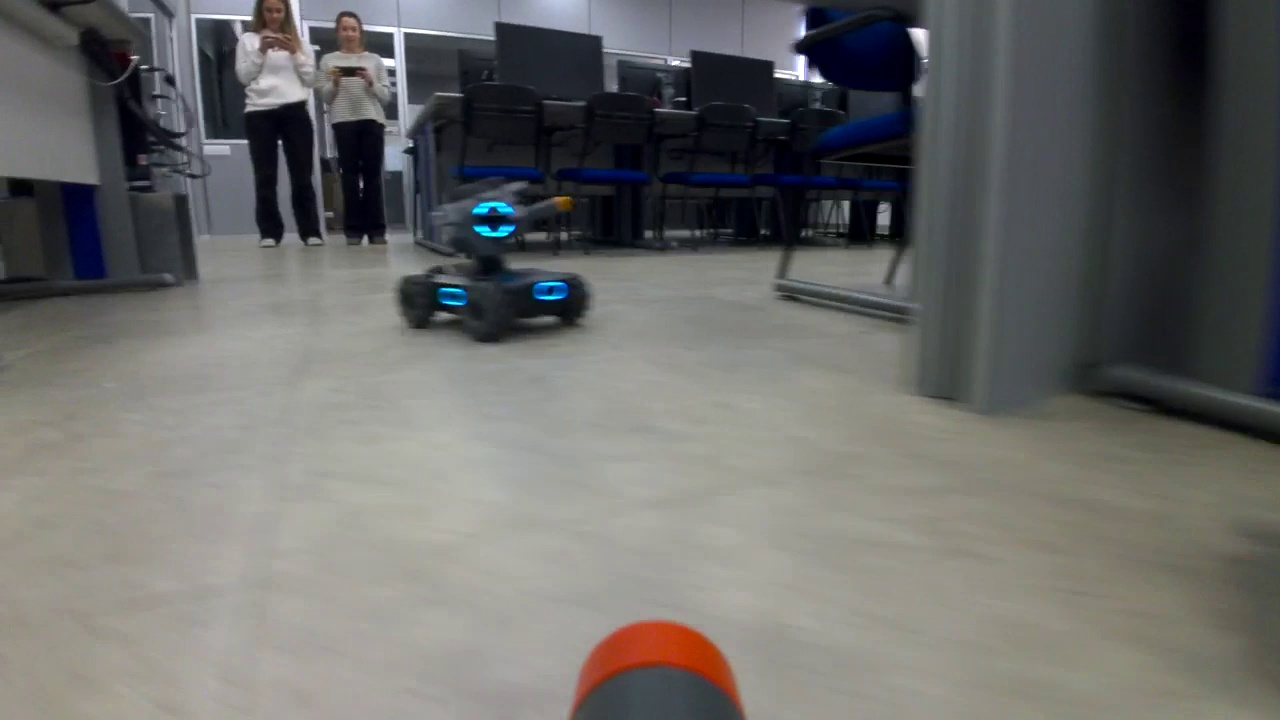robot: (393, 174, 589, 348)
